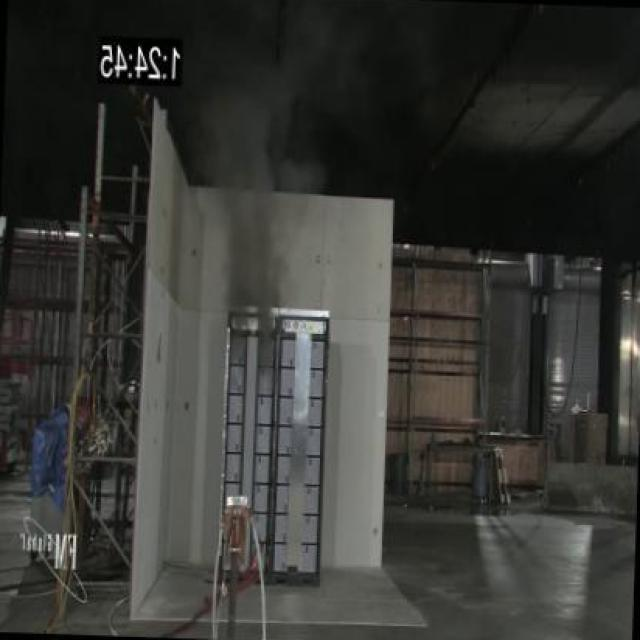fire: (190, 57, 299, 306)
